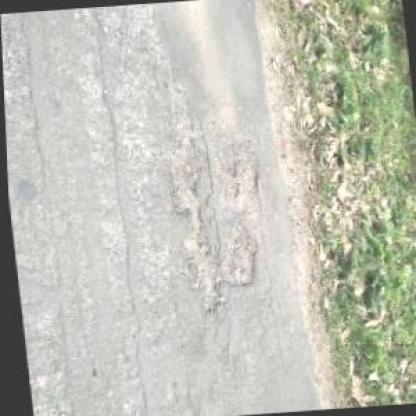pothole: (160, 132, 274, 319)
